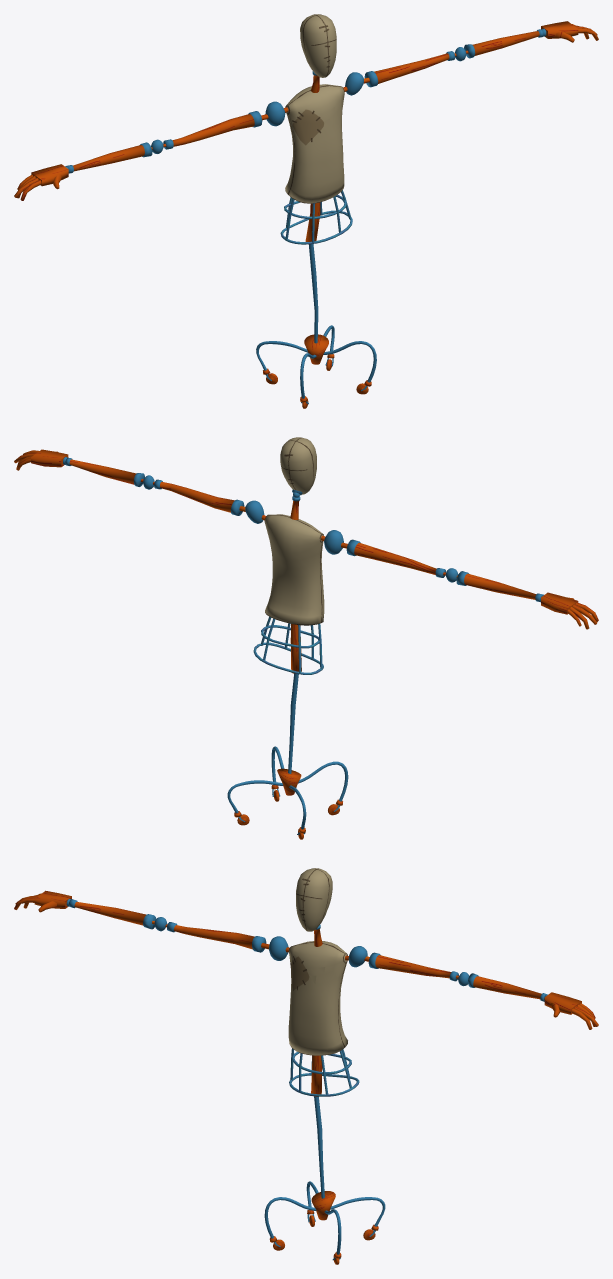
File: hello_neighbor_-_mannequin.glb
3 views of the same model, one above another, from view 1: azimuth 30°, elevation 25°; view 2: azimuth 150°, elevation 25°; view 3: azimuth 330°, elevation 25° (orthographic).
Parts seen in each view (by area): view 1: Object_3, Object_2, Object_5, Object_4, Object_7; view 2: Object_3, Object_2, Object_5, Object_4, Object_7; view 3: Object_3, Object_2, Object_5, Object_7, Object_4.
Part boxes in pixels (box(x1,y1,x2,y2)): Object_3: box(285, 14, 344, 203); Object_2: box(14, 21, 598, 200); Object_5: box(65, 28, 546, 404); Object_4: box(280, 190, 352, 244); Object_7: box(266, 202, 368, 408); Object_3: box(264, 437, 324, 625); Object_2: box(14, 449, 598, 629); Object_5: box(63, 457, 543, 834); Object_4: box(253, 616, 323, 674); Object_7: box(237, 624, 339, 839); Object_3: box(288, 868, 347, 1055); Object_2: box(14, 890, 598, 1029); Object_5: box(66, 898, 547, 1260); Object_7: box(273, 1055, 375, 1264); Object_4: box(289, 1048, 359, 1096).
Bounding box in the file's own units: 3.38 × 2.09 × 0.4483.
6 materials, 6 textured.
